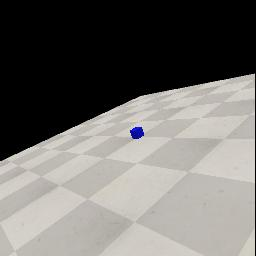box: (130, 127, 144, 139)
